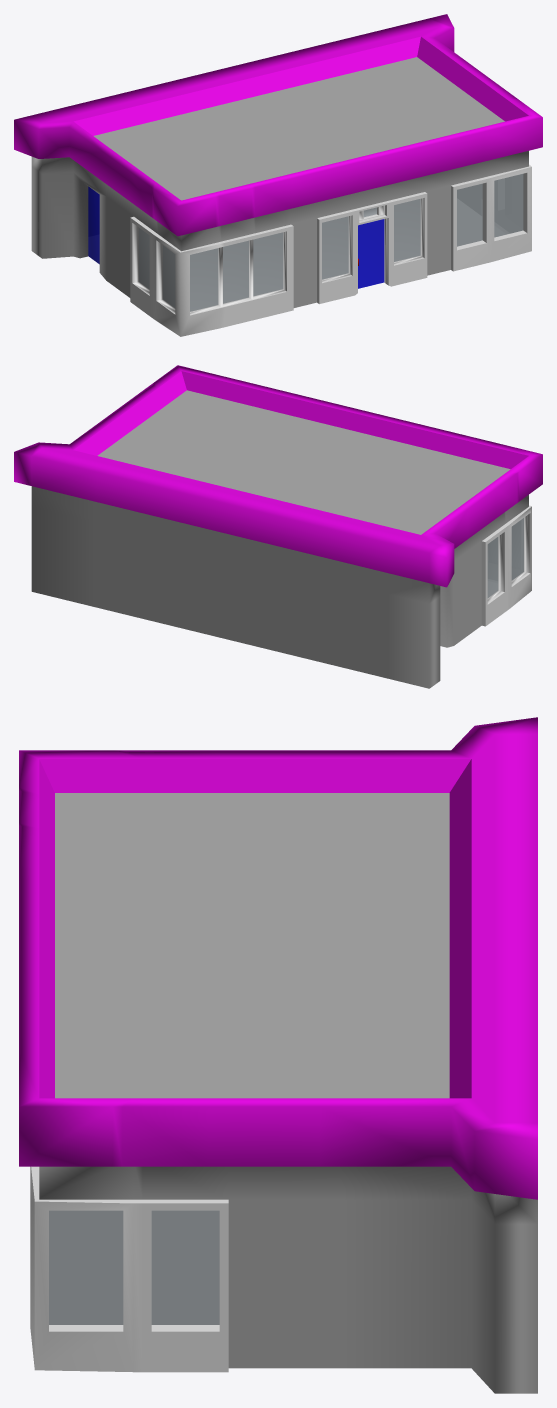
Rendered from Paystation_Building.fbx.
3 renders of one model, top to bottom at view 1: azimuth 30°, elevation 25°; view 2: azimuth 150°, elevation 25°; view 3: azimuth 270°, elevation 25°, orthographic. The views are drawn at different scales.
Visible parts, largest first — view 1: polySurface5; view 2: polySurface5; view 3: polySurface5.
Part boxes in pixels (box(x1,y1,x2,y2)): polySurface5: box(14, 14, 542, 336); polySurface5: box(14, 365, 542, 688); polySurface5: box(19, 717, 537, 1393).
Size of the model in its own units: 1787 by 534 by 928.
